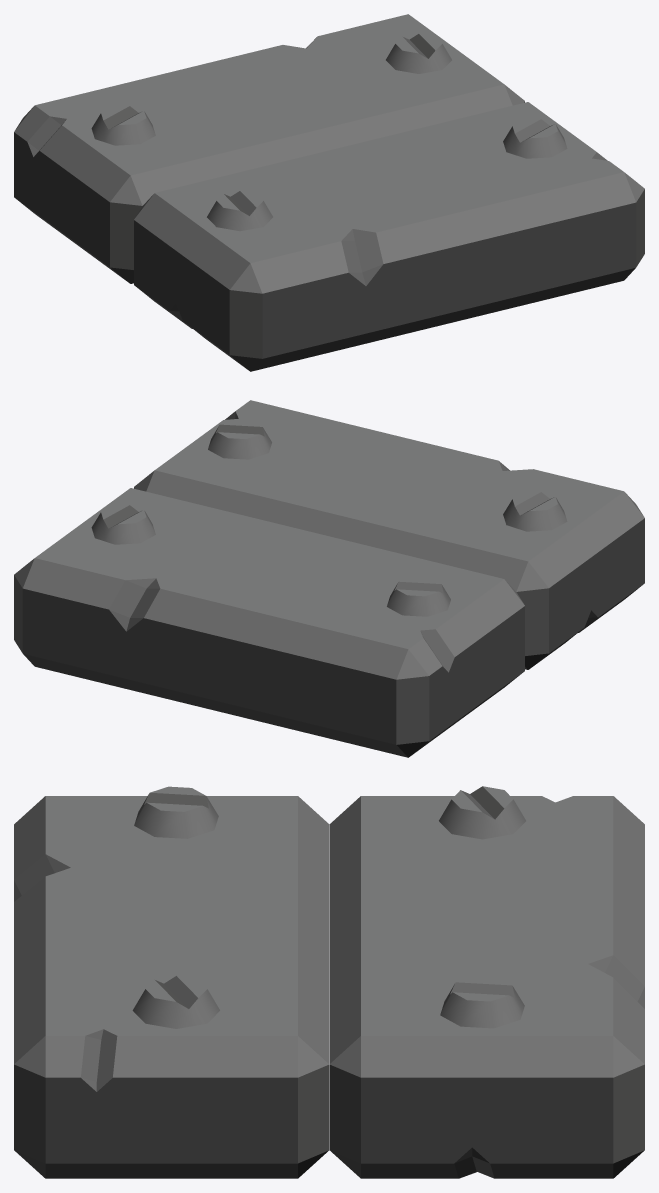
The model's file is m_kub_metalOld_flatTwoBrick.FBX.
3 views of the same model, one above another, from view 1: azimuth 30°, elevation 25°; view 2: azimuth 150°, elevation 25°; view 3: azimuth 270°, elevation 25° (orthographic). The views are drawn at different scales.
Parts seen in each view (by area): view 1: m_kub_metalOld_flatTwoBrick; view 2: m_kub_metalOld_flatTwoBrick; view 3: m_kub_metalOld_flatTwoBrick.
Boxes of the visible parts, x1,y1,x2,y2 form: m_kub_metalOld_flatTwoBrick: [14, 14, 644, 371]; m_kub_metalOld_flatTwoBrick: [14, 400, 644, 757]; m_kub_metalOld_flatTwoBrick: [14, 786, 644, 1178].
Size of the model in its own units: 2 by 0.5761 by 2.
